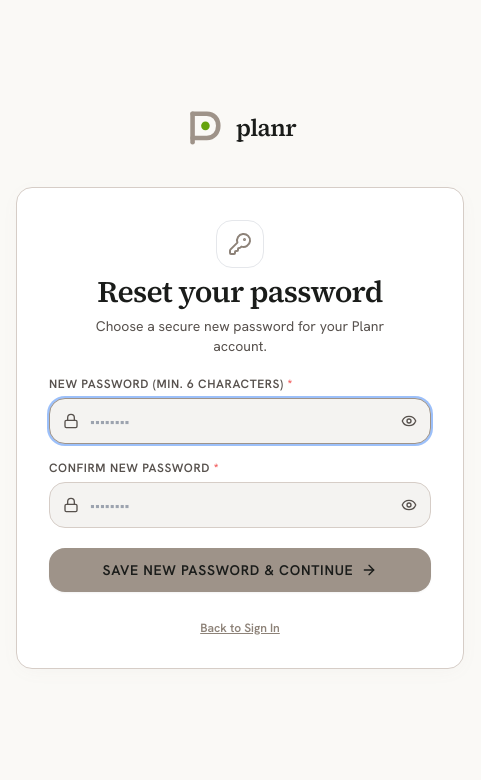
Test: ResetPasswordView Component › validates password mismatch before submit
The image size is (481, 780).
Type "password123" into the password field labelled "New Password (min. 6 characters) *". click: (240,420)
box: 49,398 -> 431,444
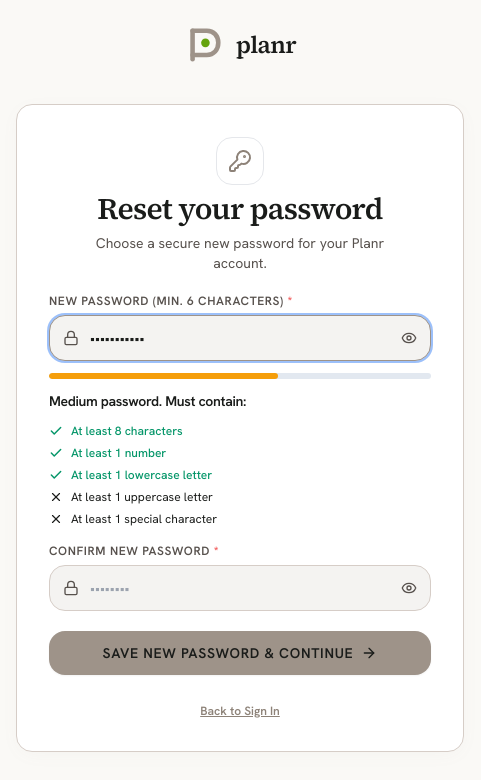
Type "different123" into the password field labelled "Confirm New Password *". click: (240,588)
box: 49,564 -> 431,610
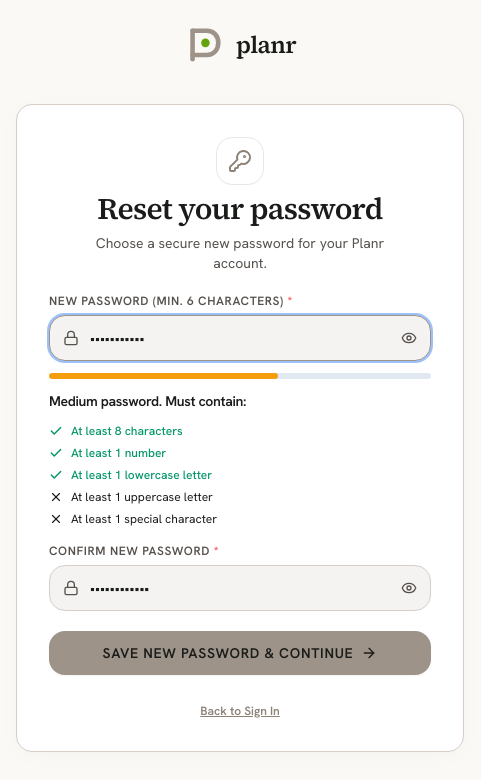
Click the button "Save New Password & Continue". click: (240,652)
box: 49,630 -> 431,674
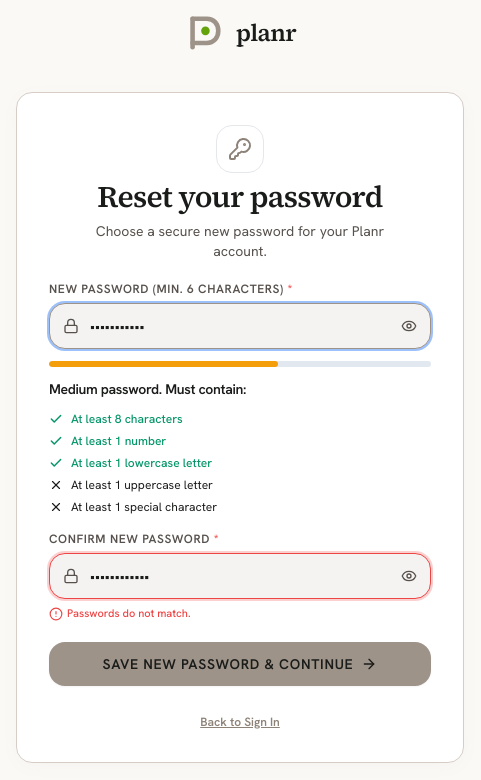
Now the text "Passwords do not match." is shown, box 67,605 -> 190,622
